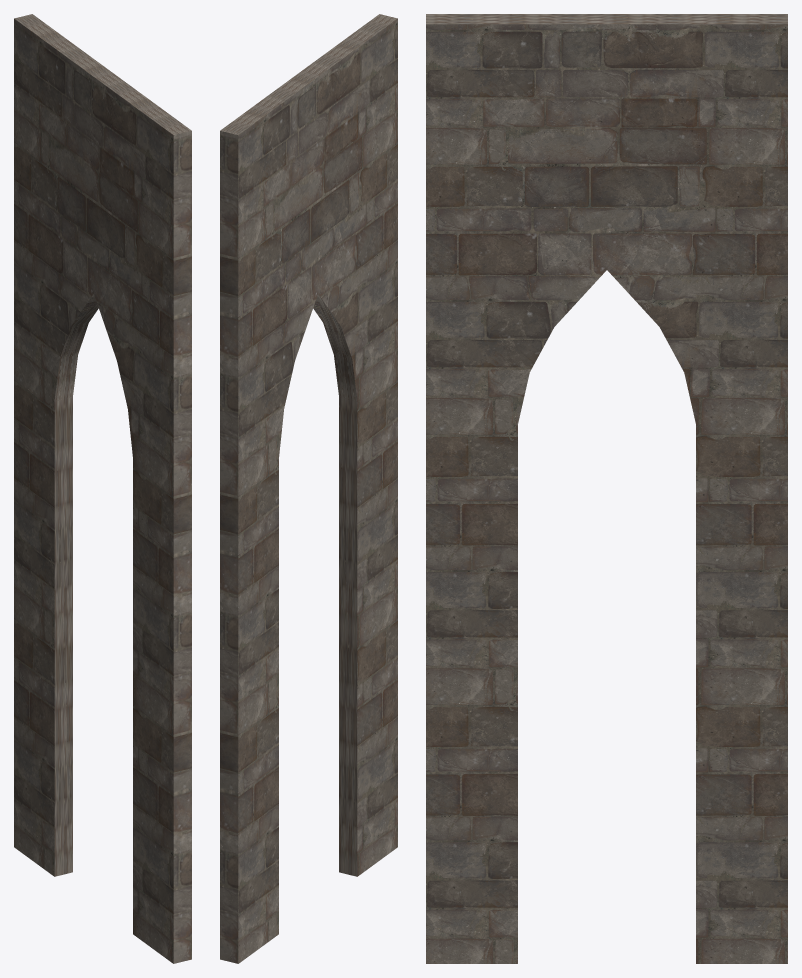
The model's file is SM_ArchCeiling_04c.fbx.
The picture shows the model from 3 angles, left to right: view 1: azimuth 30°, elevation 25°; view 2: azimuth 150°, elevation 25°; view 3: azimuth 270°, elevation 25°; orthographic projection. The views are drawn at different scales.
Visible parts, largest first — view 1: SM_ArchCeiling_04c; view 2: SM_ArchCeiling_04c; view 3: SM_ArchCeiling_04c.
Boxes of the visible parts, x1,y1,x2,y2 form: SM_ArchCeiling_04c: (14,14,191,963); SM_ArchCeiling_04c: (220,14,397,963); SM_ArchCeiling_04c: (426,14,787,963).
Bounding box in the file's own units: 100 × 4300 × 1500.
Materials: 1 (1 with a texture image).
